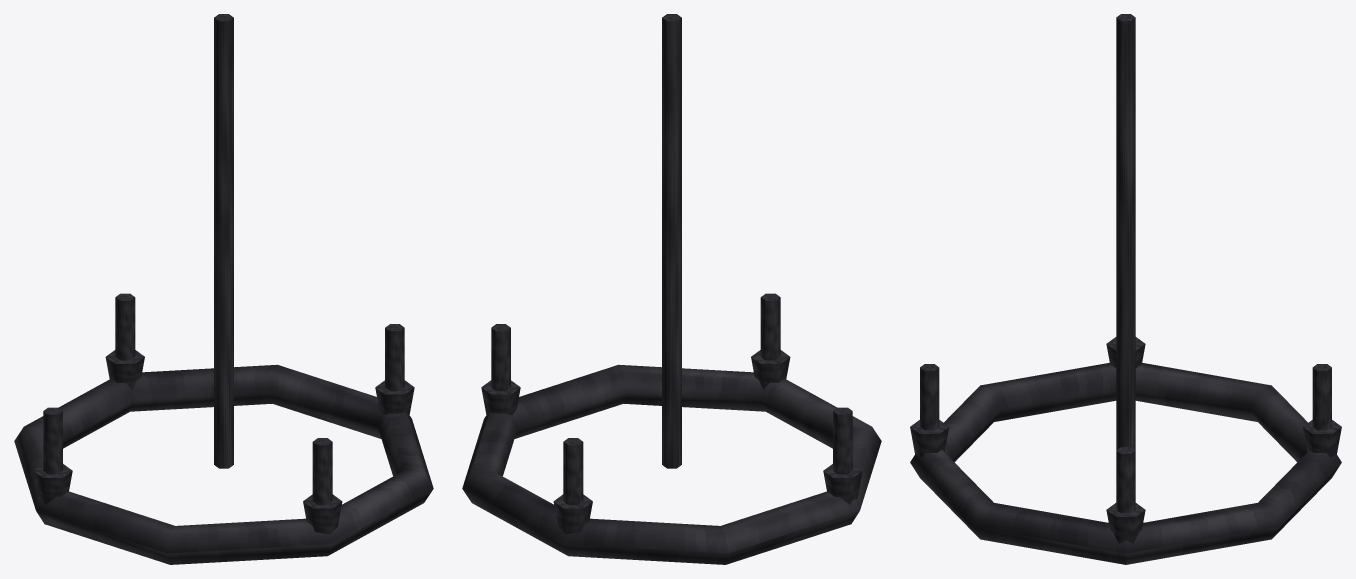
File: iron-chandelier.glb
3 views of the same model, side by side, from view 1: azimuth 30°, elevation 25°; view 2: azimuth 150°, elevation 25°; view 3: azimuth 270°, elevation 25° (orthographic).
Bounding box in the file's own units: 1.32 × 1.55 × 1.32.
1 material, 1 textured.
